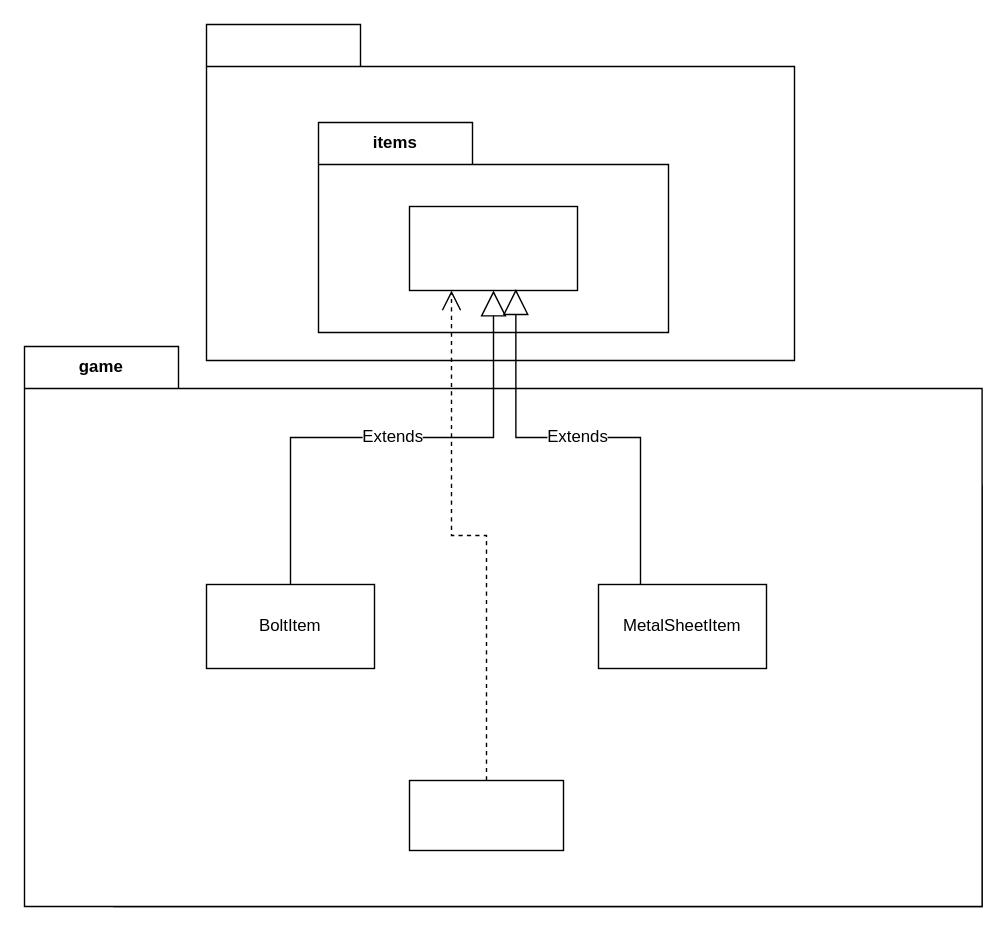
Image size: 1007x931. Some labels were removed from this diagram. Here are the shapes that lost their labels. From the top down, the box of each, then its label:
(205, 23, 794, 360): engine
(408, 205, 578, 290): <<abstract>> Item
(408, 779, 564, 850): Application
